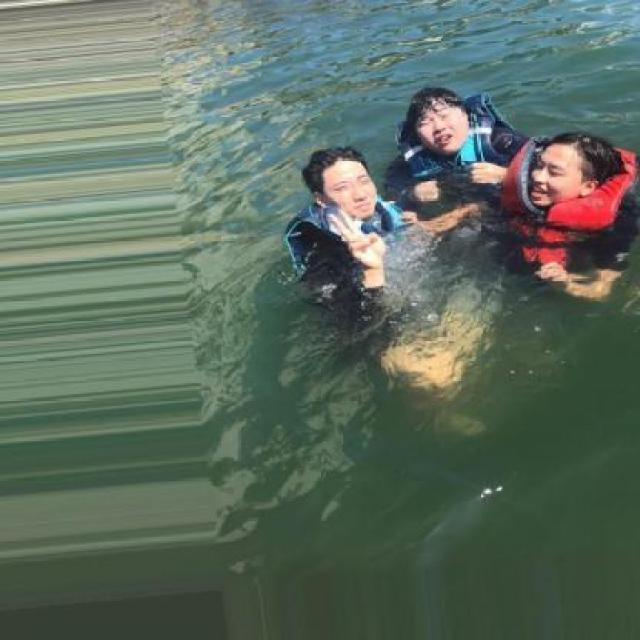drowning: (518, 126, 627, 292), (298, 154, 400, 281), (404, 85, 490, 202)
